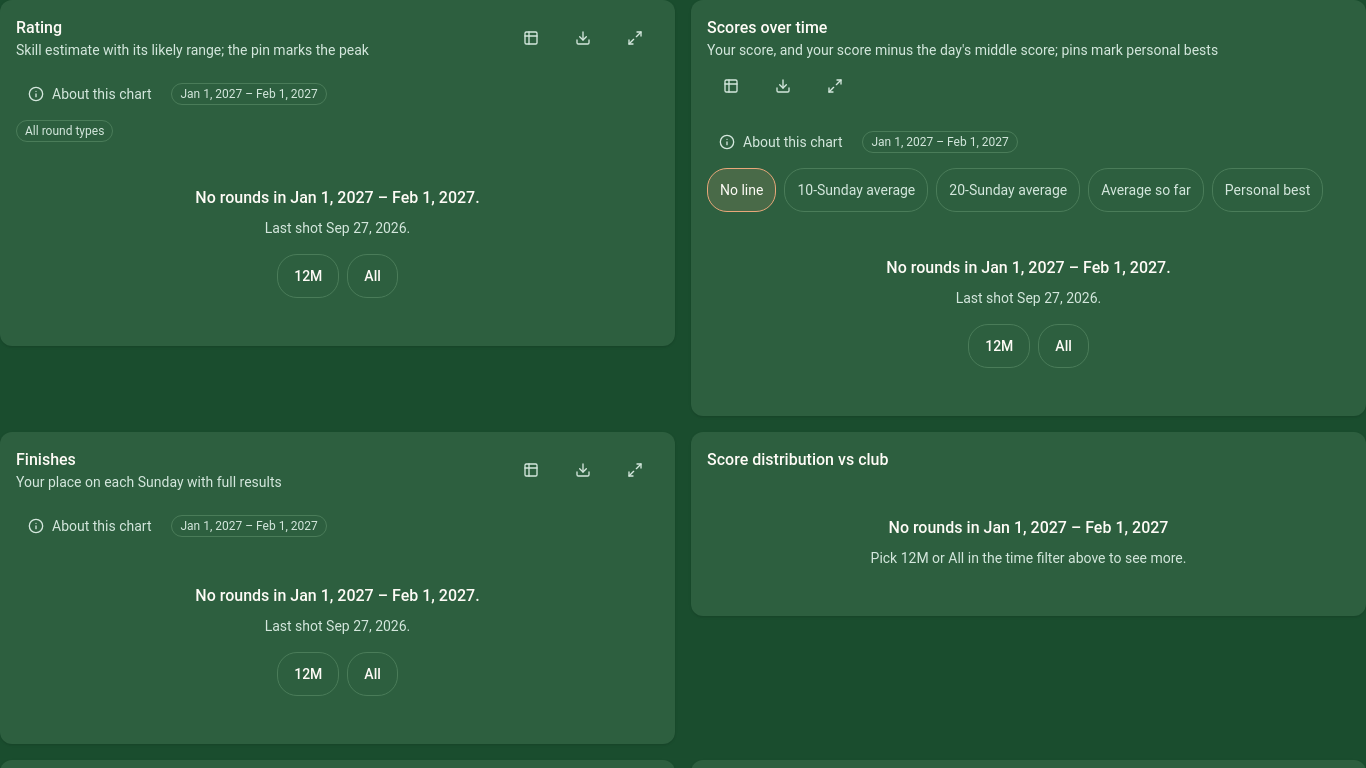
Test case: ProfileCharts follow the time window › says "No rounds in <period>. Last shot <date>." instead of drawing all-time data
Expected: the heading "No rounds in Jan 1, 2027 – Feb 1, 2027." below "Rating" is shown, left=195, top=188, right=480, bottom=207
Expected: the text "Last shot Sep 27, 2026." below "Rating" is shown, left=265, top=220, right=410, bottom=236
What coordinates should you click on to do the following:
click the button with aria-label "Show all time"
I would click on:
 (373, 276)
Its box is left=347, top=254, right=398, bottom=298.
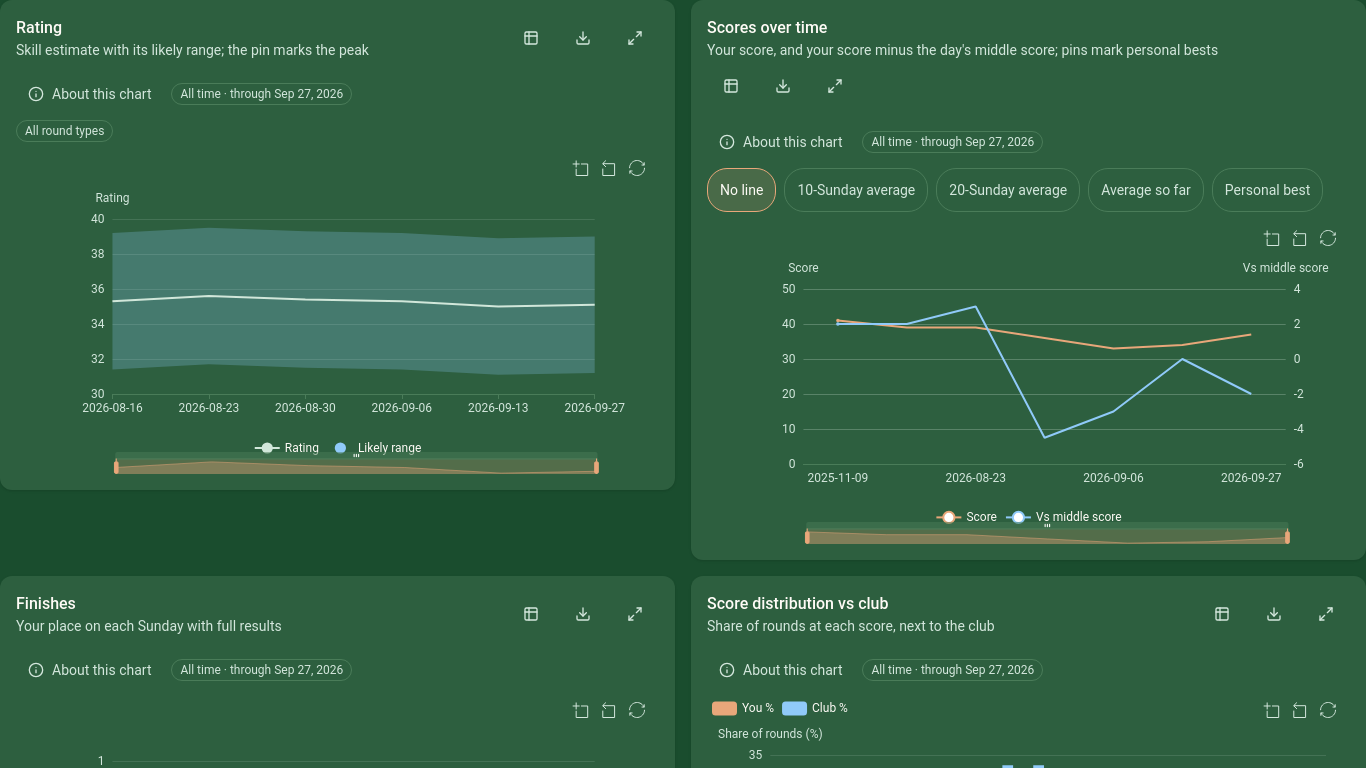
Expected: the picture named "Rating over time" is shown, left=16, top=154, right=659, bottom=474
